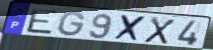4: (176, 20, 200, 47)
9: (87, 13, 113, 40)
E: (25, 8, 60, 36)
G: (57, 11, 88, 38)
X: (113, 14, 149, 43), (143, 16, 177, 46)
